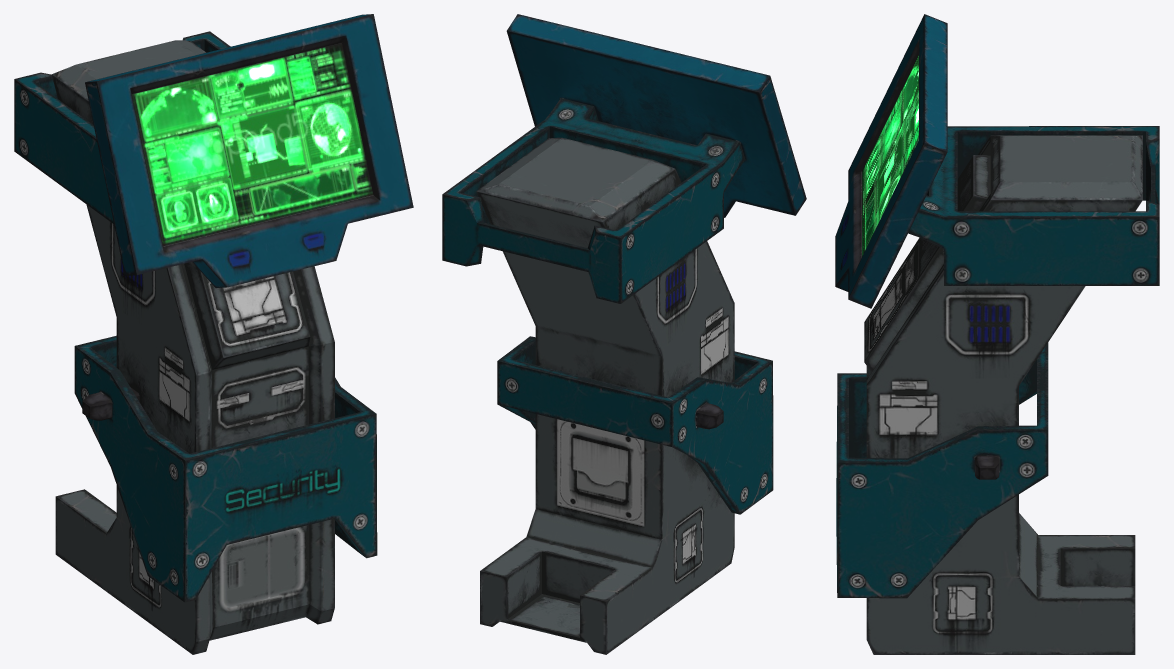
3 renders of one model, left to right at view 1: azimuth 30°, elevation 25°; view 2: azimuth 150°, elevation 25°; view 3: azimuth 270°, elevation 25°, orthographic. The views are drawn at different scales.
Visible parts, largest first — view 1: screen_low, middle_low, bar_low, back_low, support_low; view 2: middle_low, screen_low, back_low, bar_low, support_low; view 3: middle_low, bar_low, back_low, screen_low, support_low.
Part boxes in pixels (<box>): screen_low: <box>85,14,413,288</box>; middle_low: <box>51,40,334,654</box>; bar_low: <box>74,335,377,602</box>; back_low: <box>14,31,230,223</box>; support_low: <box>82,387,139,420</box>; middle_low: <box>476,137,734,654</box>; screen_low: <box>506,14,806,217</box>; back_low: <box>442,98,744,303</box>; bar_low: <box>497,336,773,514</box>; support_low: <box>696,403,723,429</box>; middle_low: <box>864,135,1142,654</box>; bar_low: <box>836,342,1048,598</box>; back_low: <box>908,126,1159,285</box>; screen_low: <box>835,14,947,308</box>; support_low: <box>975,455,999,479</box>.
Size of the model in its own units: 226 by 445 by 240.
1 material, 1 textured.
